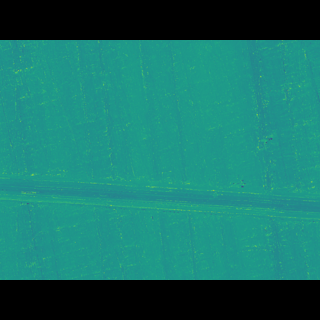Loch: (0, 165, 320, 207)
